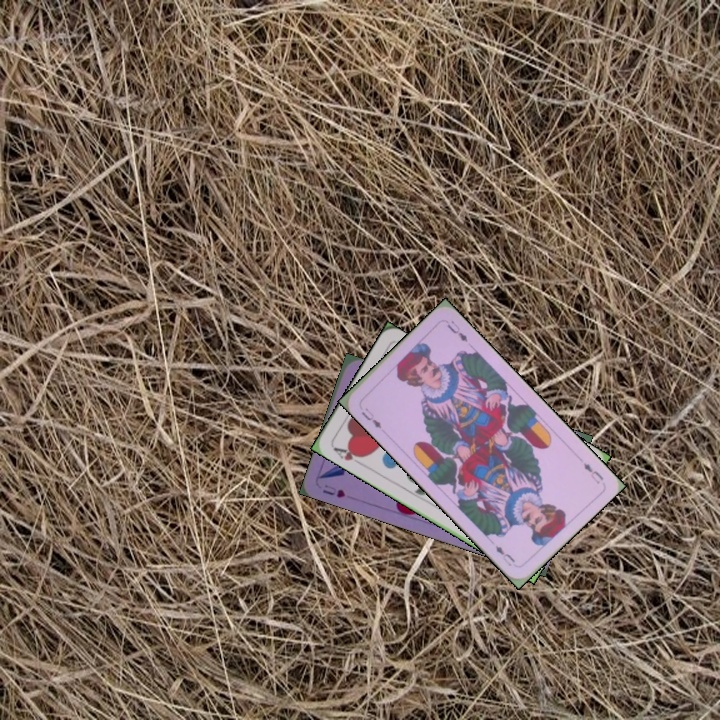EU: (579, 458, 606, 487), (357, 404, 384, 431)
HA: (329, 443, 367, 469)
HU: (318, 480, 348, 500)
